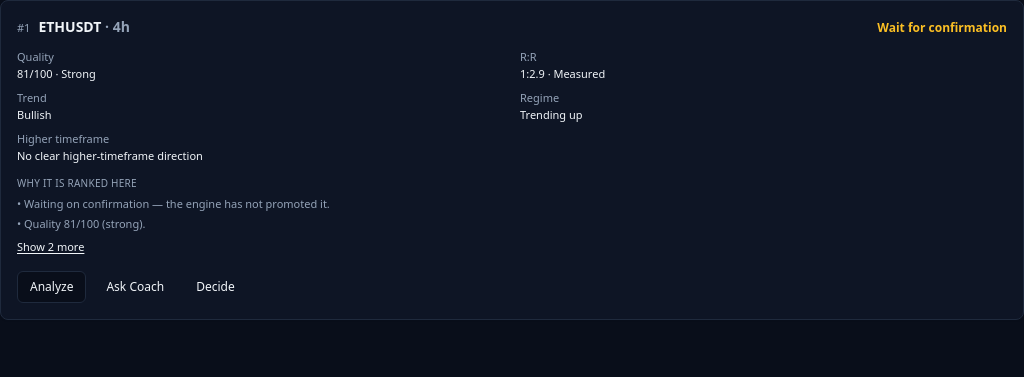
Test case: the candidate card › keeps the longer explanation behind a disclosure
Expected: the text "Trend is bullish." is not shown
Click the button "Show 2 more": (51, 247) left=17, top=239, right=84, bottom=255
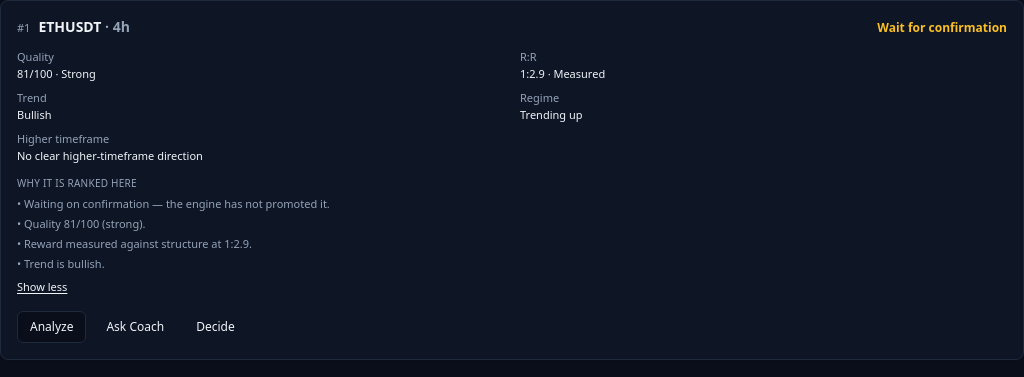
Result: the list item "• Trend is bullish." is shown at left=17, top=256, right=105, bottom=271
Result: the button "Show less" is expanded at left=17, top=278, right=67, bottom=295
